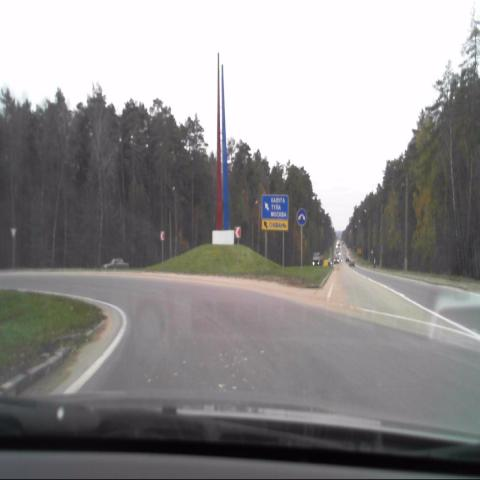4_2_3: (296, 208, 308, 228)
